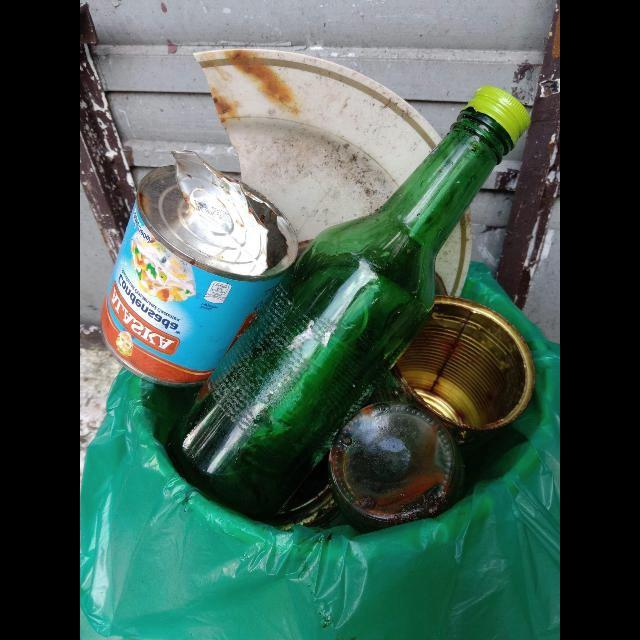aluminum: (101, 152, 299, 388), (378, 296, 535, 465)
glass_bottle: (165, 87, 530, 523), (326, 403, 468, 535)
